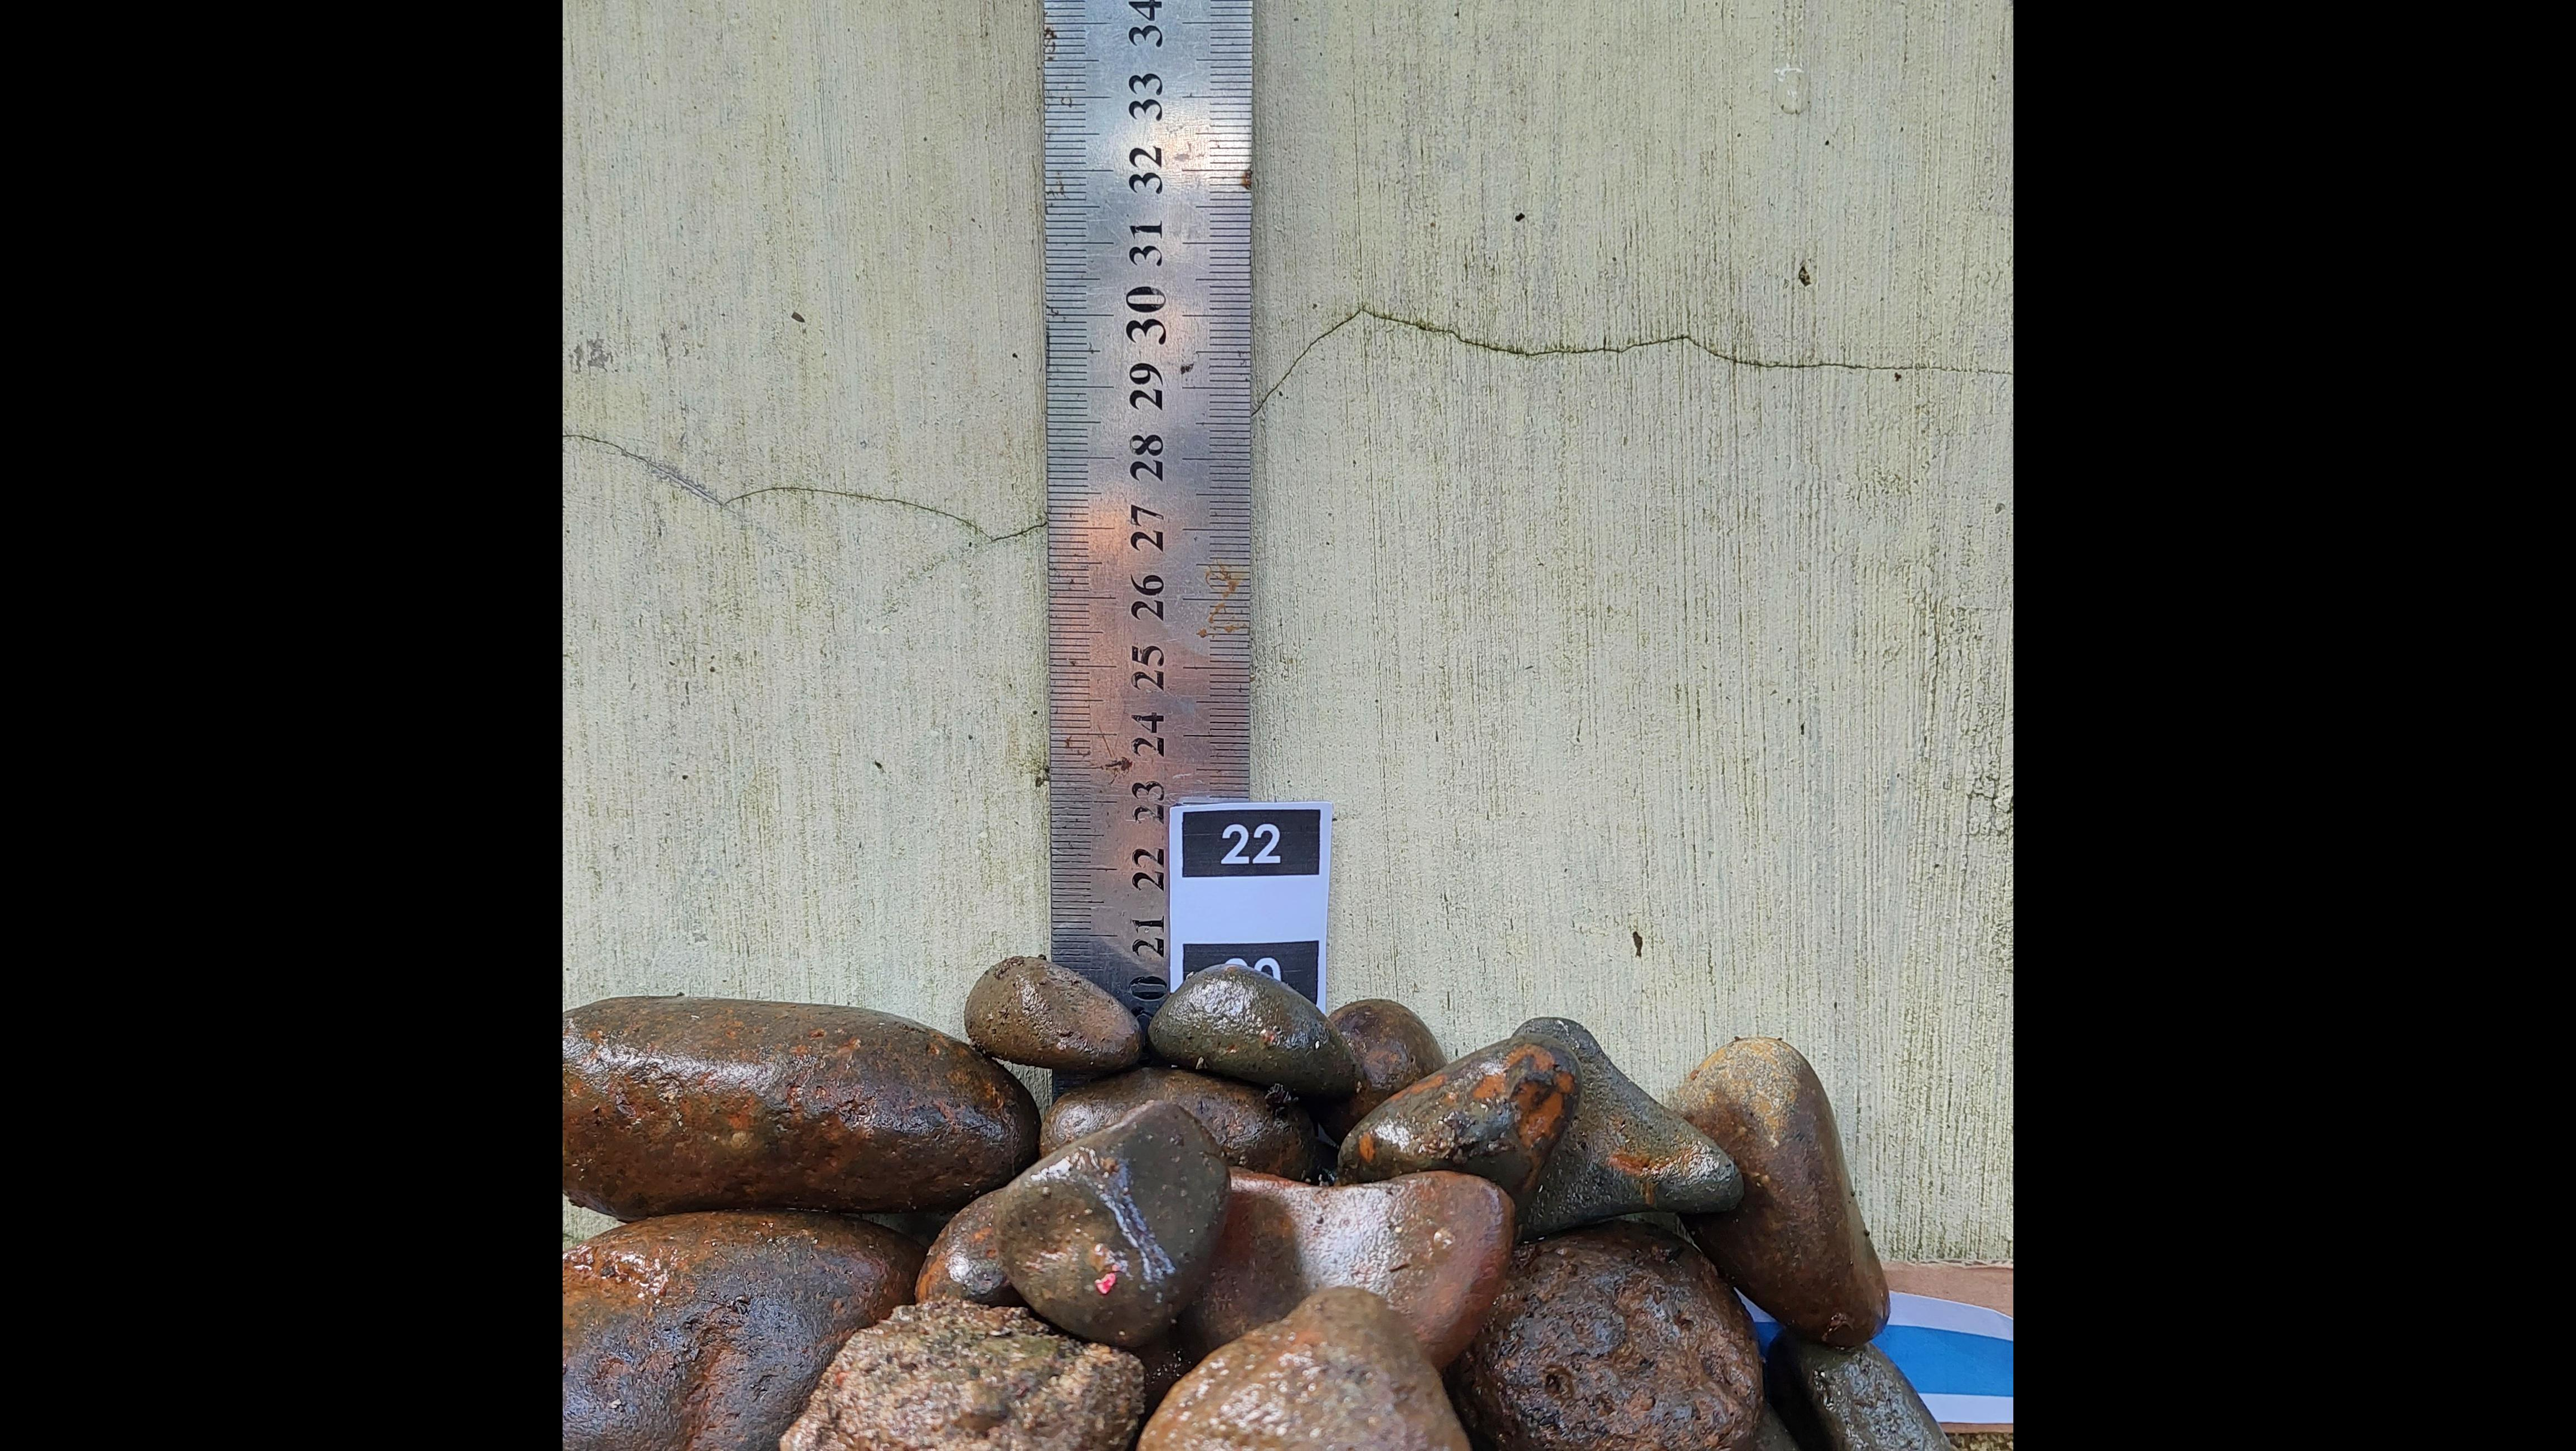kotak_2x1: (1180, 810, 1320, 876)
